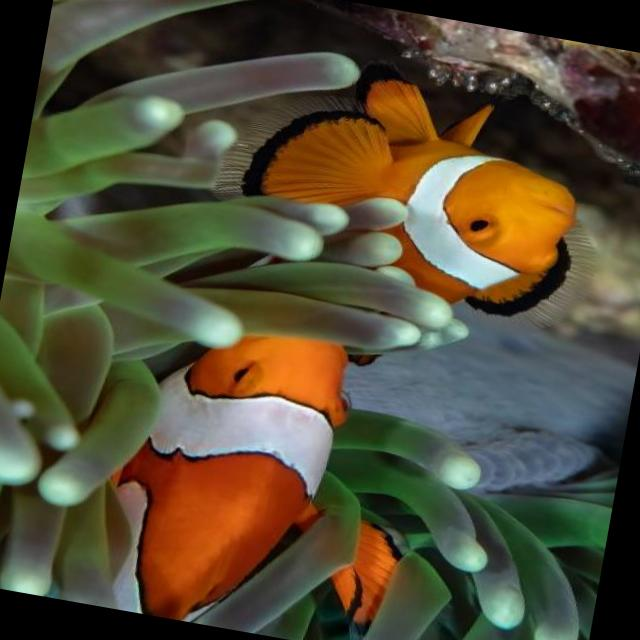ClownFish: (90, 305, 434, 640), (218, 44, 594, 333)
